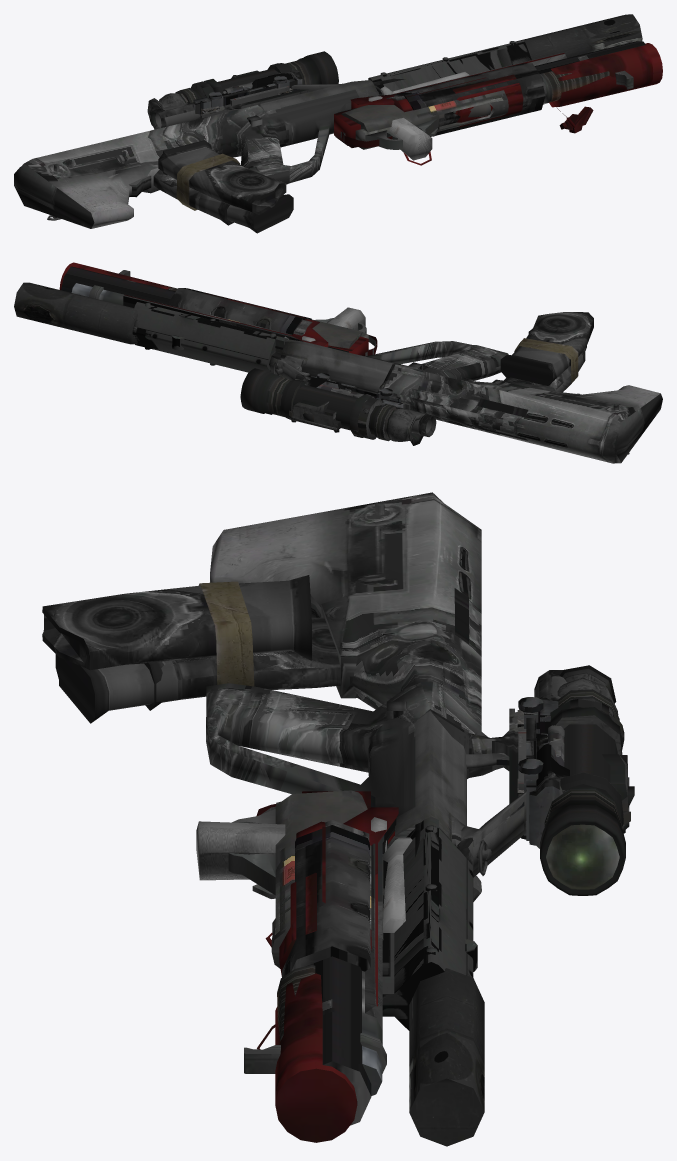
File: t5_weapon_aug_world.glb
The picture shows the model from 3 angles, top to bottom: view 1: azimuth 30°, elevation 25°; view 2: azimuth 150°, elevation 25°; view 3: azimuth 270°, elevation 25°; orthographic projection. The views are drawn at different scales.
Parts seen in each view (by area): view 1: t5_weapon_aug_world; view 2: t5_weapon_aug_world; view 3: t5_weapon_aug_world.
Boxes of the visible parts, x1,y1,x2,y2 form: t5_weapon_aug_world: (14, 14, 662, 233); t5_weapon_aug_world: (14, 262, 662, 463); t5_weapon_aug_world: (42, 492, 634, 1146).
Size of the model in its own units: 0.8615 by 0.1057 by 0.3679.
16 materials, 16 textured.
